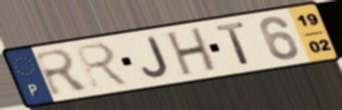6: (258, 14, 301, 62)
H: (165, 25, 219, 78)
J: (140, 35, 171, 79)
R: (31, 47, 93, 98), (71, 40, 133, 91)
T: (213, 20, 253, 67)
